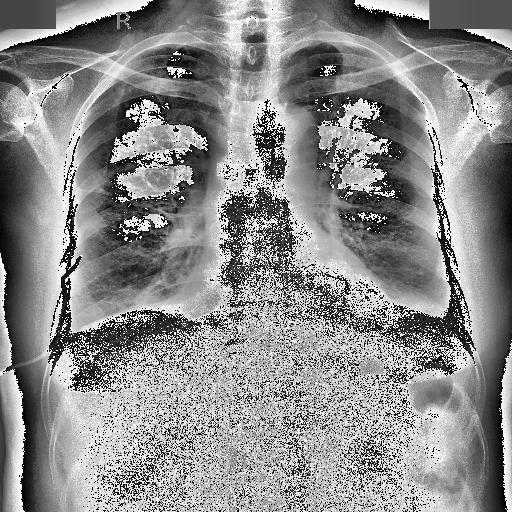10- Pleural effusion: (436, 295, 469, 343), (424, 304, 466, 335), (52, 312, 83, 350), (56, 307, 81, 347), (435, 300, 465, 333), (58, 302, 76, 350)
11- Pleural thickening: (436, 295, 469, 343), (52, 312, 83, 350), (56, 307, 81, 347), (435, 300, 465, 333), (58, 302, 76, 350)
13- Pulmonary fibrosis: (77, 161, 137, 195), (92, 159, 138, 196), (110, 84, 135, 112)
3- Cardiomegaly: (158, 270, 401, 340)
7- Lung Opacity: (379, 270, 446, 315), (436, 295, 469, 343), (58, 302, 76, 350), (116, 86, 131, 108)
